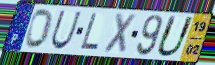9: (135, 14, 163, 57)
L: (79, 12, 101, 52)
O: (24, 8, 55, 50)
U: (154, 14, 197, 59), (49, 9, 83, 51)
X: (101, 12, 139, 57)
